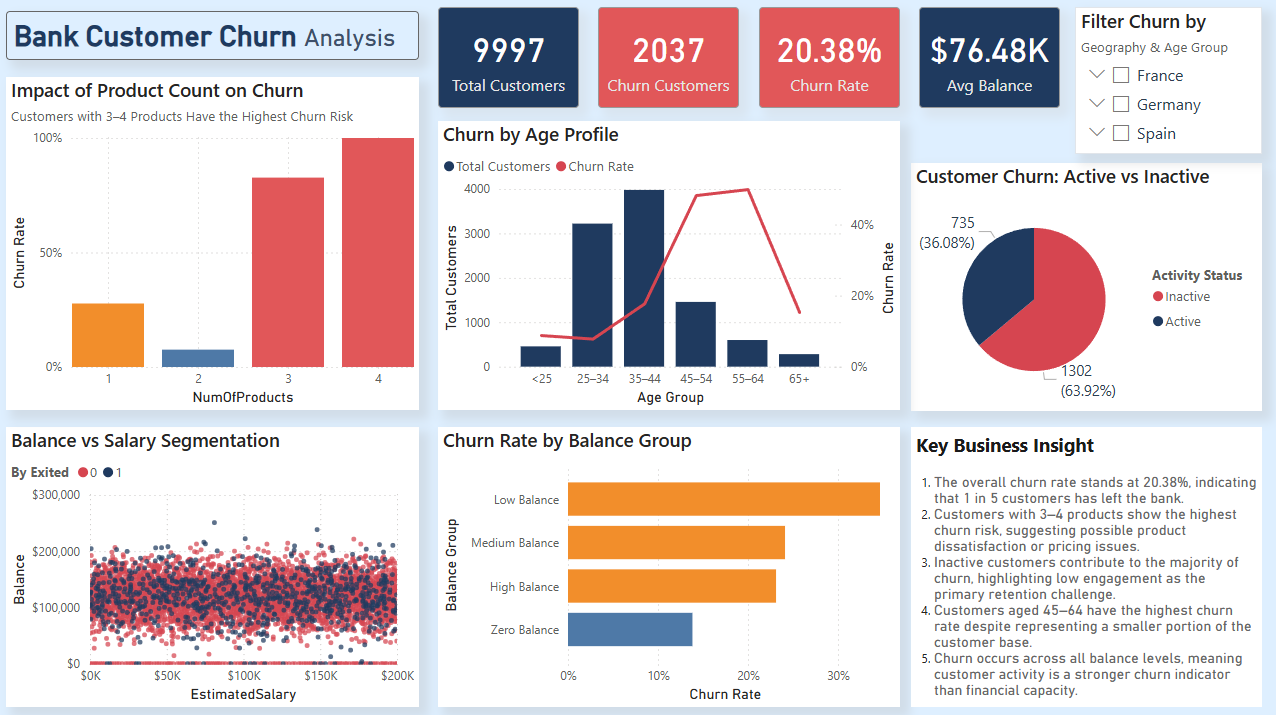

Layout of this report page (visuals, bound fields, positions):
{"tool":"powerbi","page":{"name":"Page 1","canvas":[1280,720],"ordinal":0},"visuals":[{"type":"card","fields":{"Values":["Account_Info.Total Customers"]},"box":[439.6,9.7,141,101.2],"z":0},{"type":"card","fields":{"Values":["Account_Info.Churn Customers"]},"box":[600.1,9.7,141,101.2],"z":1000},{"type":"card","fields":{"Values":["Account_Info.Churn Rate"]},"box":[760.6,9.7,141,101.2],"z":2000},{"type":"card","fields":{"Values":["Account_Info.Avg Balance"]},"box":[921.1,9.7,141,101.2],"z":3000},{"type":"pieChart","title":"Customer Churn: Active vs Inactive","fields":{"Category":["Account_Info.Activity Status"],"Y":["Account_Info.Churn Customers"]},"box":[913,166,351,248],"z":4000},{"type":"lineStackedColumnComboChart","title":"Churn by Age Profile","fields":{"Y":["Account_Info.Total Customers"],"Y2":["Account_Info.Churn Rate"],"Category":["Customer_Info.Age Group","Customer_Info.Age Group Sort"]},"box":[439.6,124.5,462,288.9],"z":5000},{"type":"scatterChart","title":"Balance vs Salary Segmentation","fields":{"Y":["Account_Info.Balance"],"X":["Customer_Info.EstimatedSalary"],"Series":["Account_Info.Exited"]},"box":[7.8,429.9,413.4,280.1],"z":6000},{"type":"slicer","title":"Filter Churn by","fields":{"Values":["Customer_Info.Geography","Customer_Info.Age Group"]},"box":[1077,10,187,147],"z":7000},{"type":"textbox","box":[7.8,13.6,413.4,49.6],"z":8000},{"type":"barChart","fields":{"Category":["Account_Info.Balance Group"],"Y":["Account_Info.Churn Rate"]},"box":[439.6,429.9,462,280.1],"z":9000},{"type":"columnChart","title":"Impact of Product Count on Churn","fields":{"Y":["Account_Info.Churn Rate"],"Category":["Account_Info.NumOfProducts"]},"box":[7.8,79.8,413.4,333.6],"z":10000},{"type":"textbox","box":[913,430,351,280],"z":11000}]}

Visuals, with their boxes in screenshot pixels (x1, y1, x2, y2), scaled from the page's 1280x720 canvas onto the 1276x715 screenshot:
card - Account_Info.Total Customers: (438, 10, 579, 110)
card - Account_Info.Churn Customers: (598, 10, 739, 110)
card - Account_Info.Churn Rate: (758, 10, 899, 110)
card - Account_Info.Avg Balance: (918, 10, 1059, 110)
"Customer Churn: Active vs Inactive" pieChart: (910, 165, 1260, 411)
"Churn by Age Profile" lineStackedColumnComboChart: (438, 124, 899, 411)
"Balance vs Salary Segmentation" scatterChart: (8, 427, 420, 705)
"Filter Churn by" slicer: (1074, 10, 1260, 156)
textbox: (8, 14, 420, 63)
barChart - Account_Info.Balance Group x Account_Info.Churn Rate: (438, 427, 899, 705)
"Impact of Product Count on Churn" columnChart: (8, 79, 420, 411)
textbox: (910, 427, 1260, 705)
